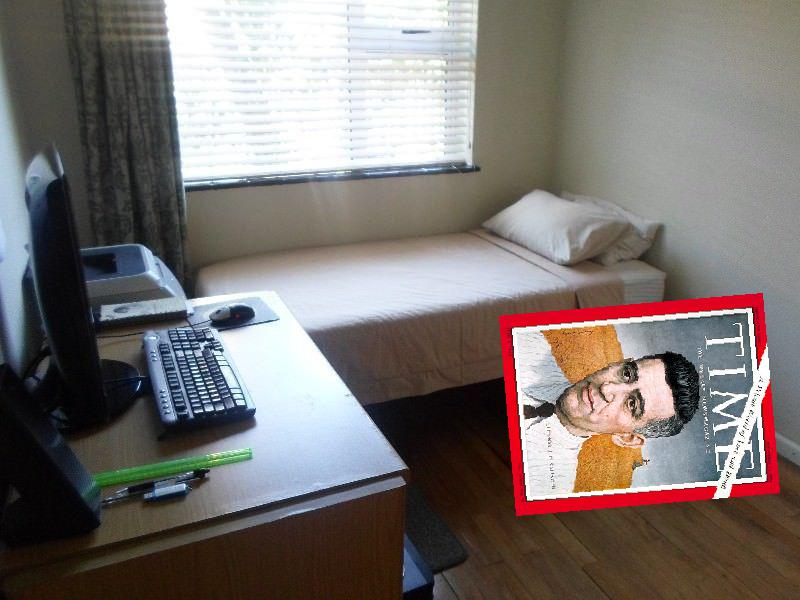times: (497, 292, 779, 524)
